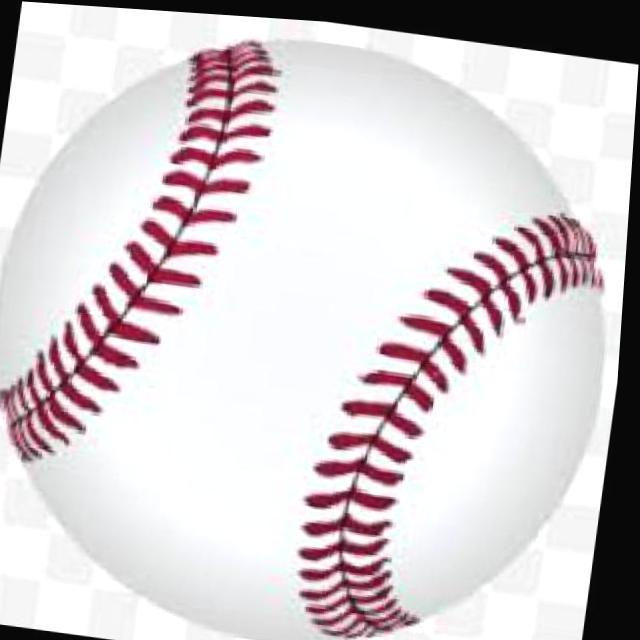-: (0, 1, 639, 640)
